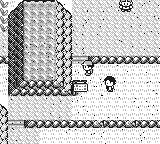captura: (1, 0, 8, 32)
leer: (72, 80, 87, 95)
main: (81, 61, 94, 75), (119, 0, 133, 12)
no-caminable: (8, 2, 72, 94), (1, 104, 8, 143)
npc: (104, 76, 116, 92), (119, 0, 133, 12)
salto: (27, 121, 160, 127), (88, 56, 159, 64), (1, 56, 8, 63)
